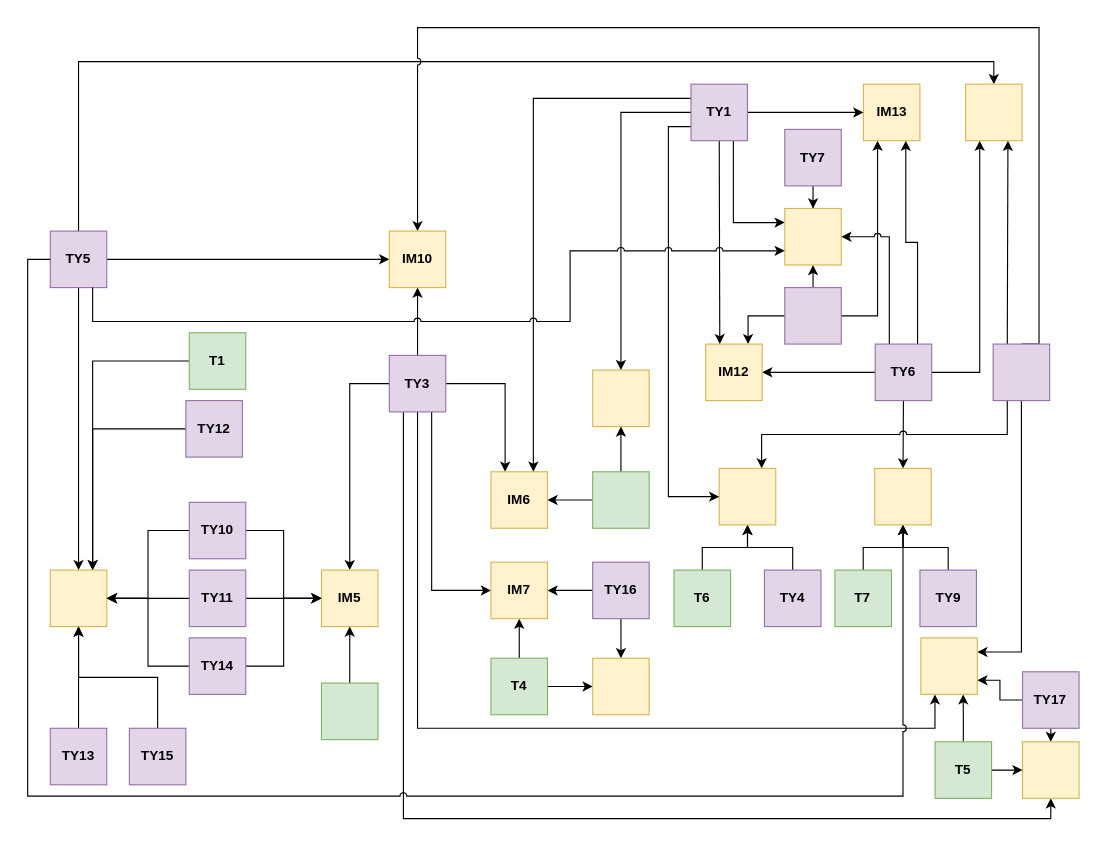
Image size: 1099x848. Some labels were removed from this diagram. Here are the shapes that lost their labels. From the top down, the centre of each, then its label:
point 993,112: IM11
point 812,236: IM14
point 812,315: TY8
point 1021,372: TY2
point 620,398: IM2
point 620,499: T3
point 747,496: IM9
point 902,496: IM15
point 78,598: IM1
point 948,665: IM4
point 620,686: IM3
point 349,711: T2
point 1050,769: IM8
